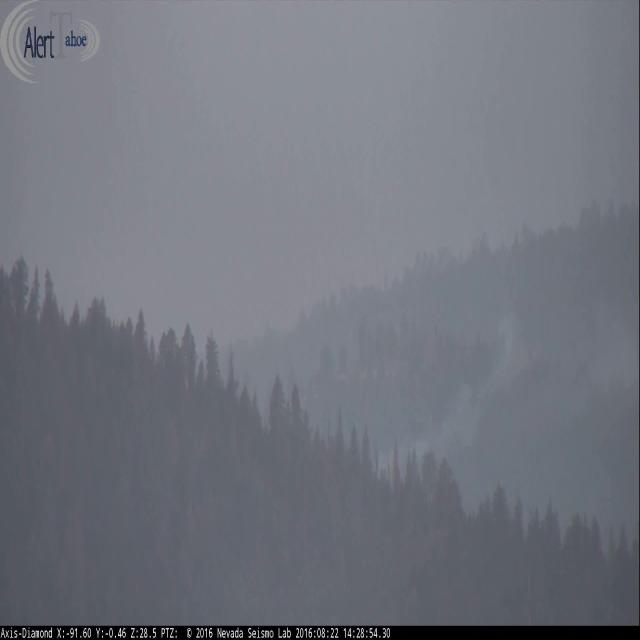smoke: (373, 301, 640, 485)
